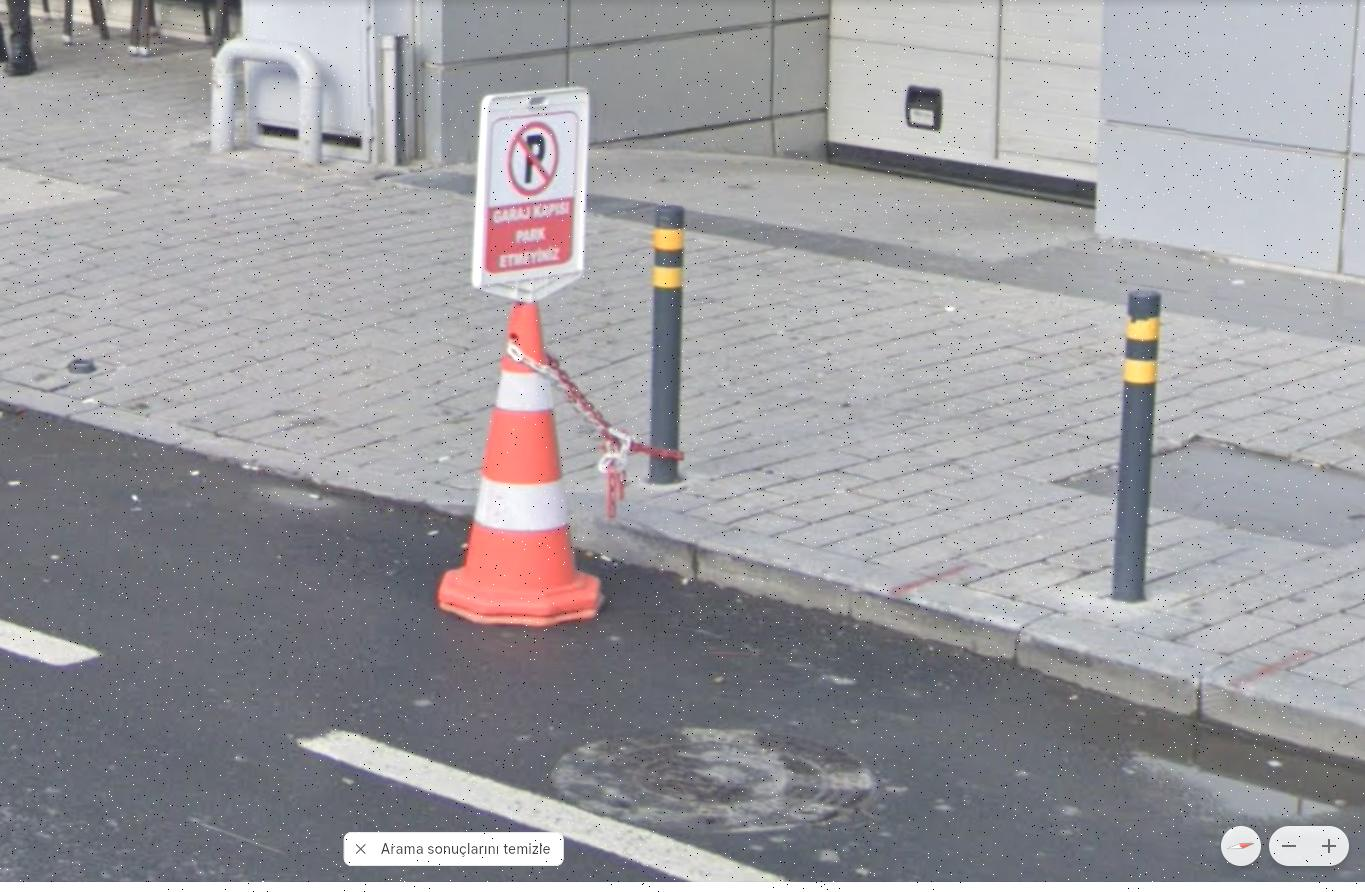nopark: (505, 129, 565, 192)
